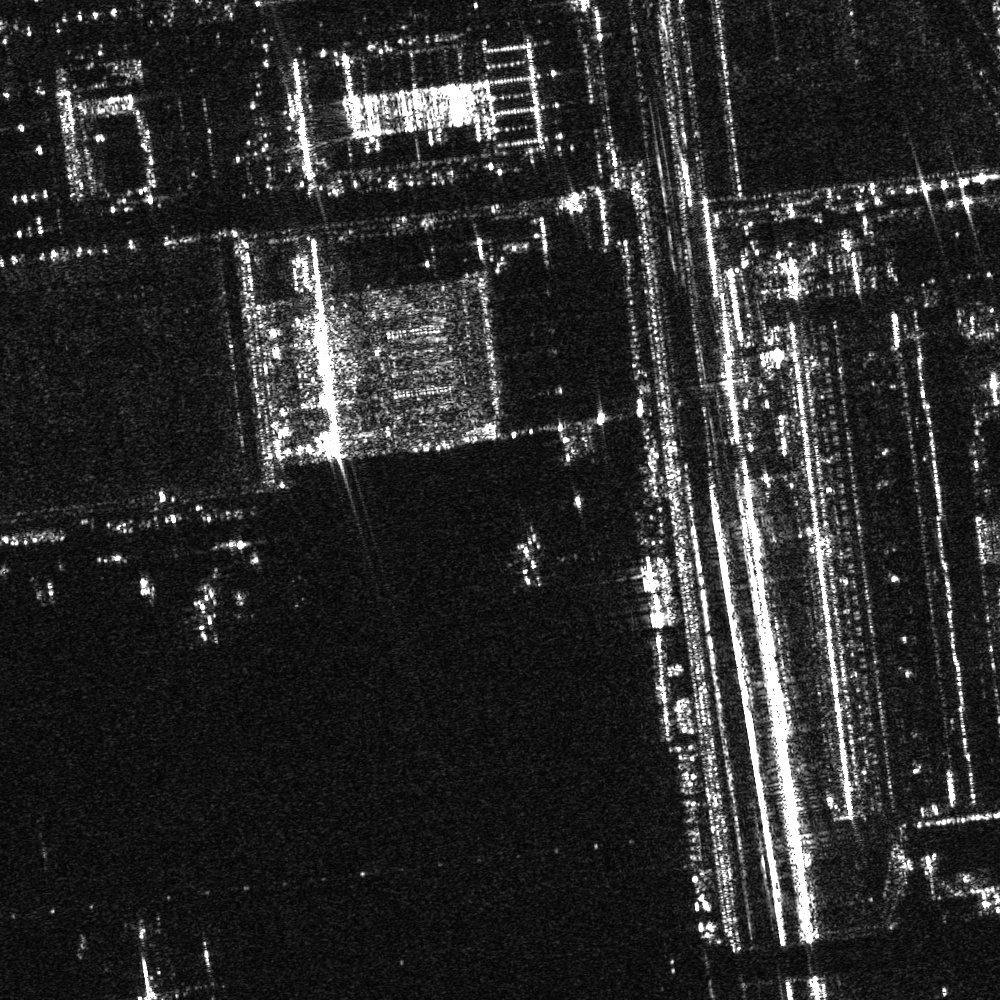A220: (165, 566, 248, 645)
A320/321: (498, 529, 564, 593)
